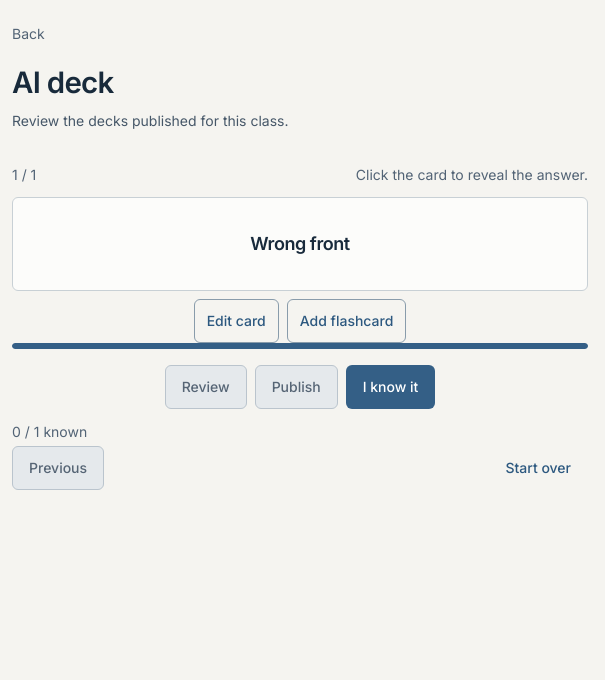
Test: Student journeys › lets a teacher correct a generated card, which unlocks publication
Click the button "Edit card" at (236, 321), box [194,299,279,343]
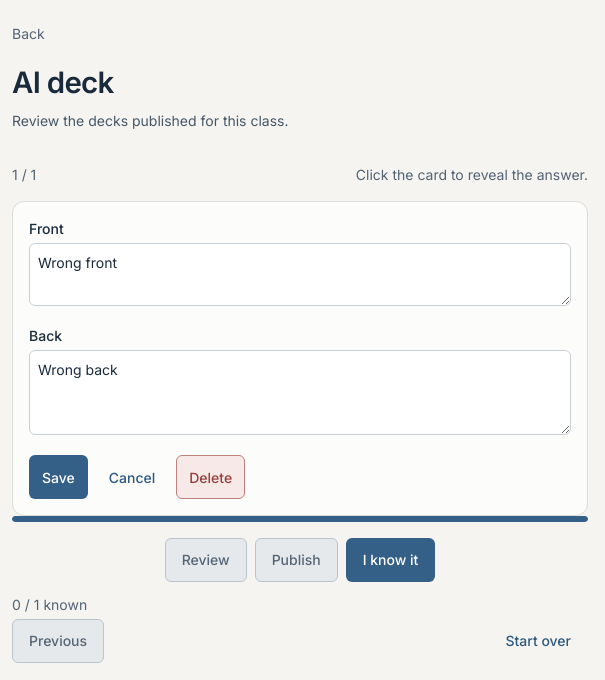
Expected: the text box labelled "Front" holds "Wrong front"
Replace the text in the text box labelled "Front" with "Right front" at (300, 274), box [29,243,571,306]
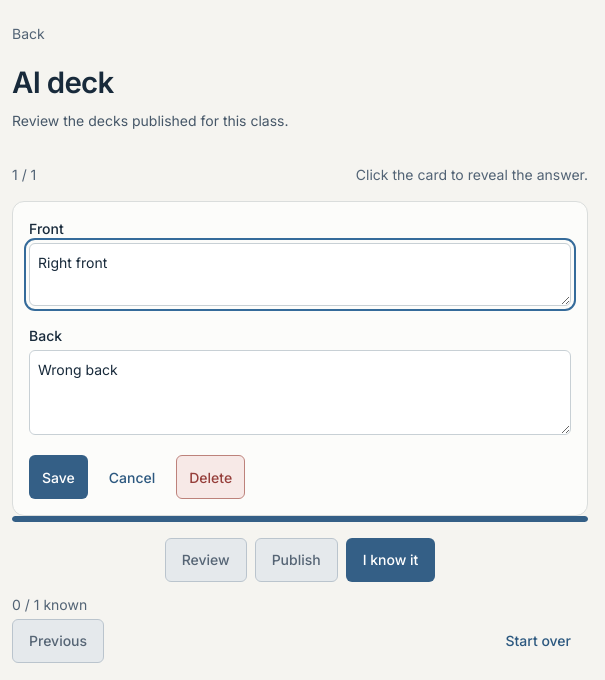
Replace the text in the text box labelled "Back" with "Right back" at (300, 393), box [29,350,571,436]
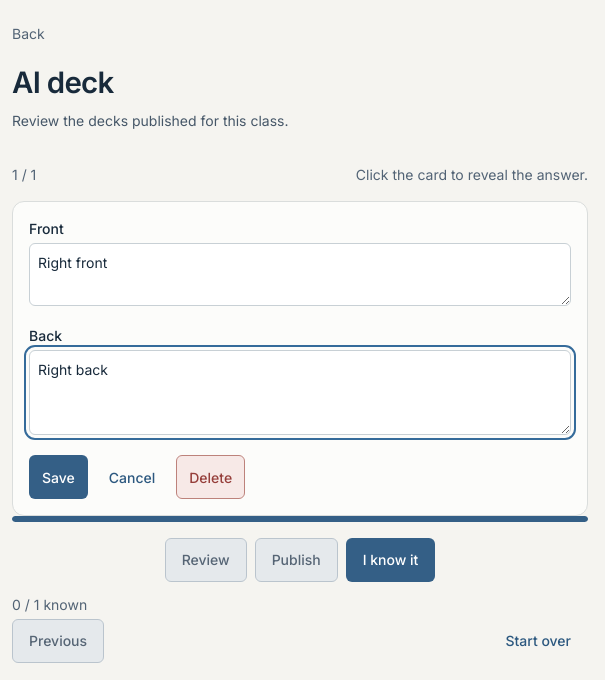
Click the button "Save" at (58, 477), box [29,455,88,499]
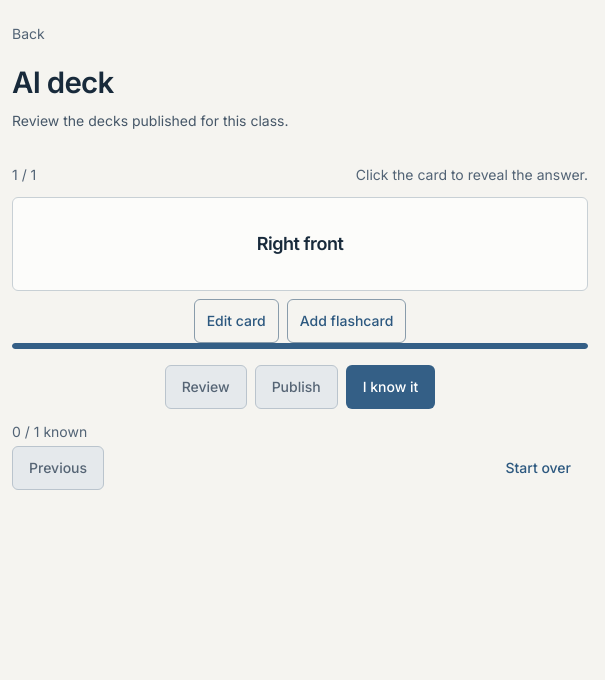
Expected: the text "Right front" is shown, [257,230,343,258]
